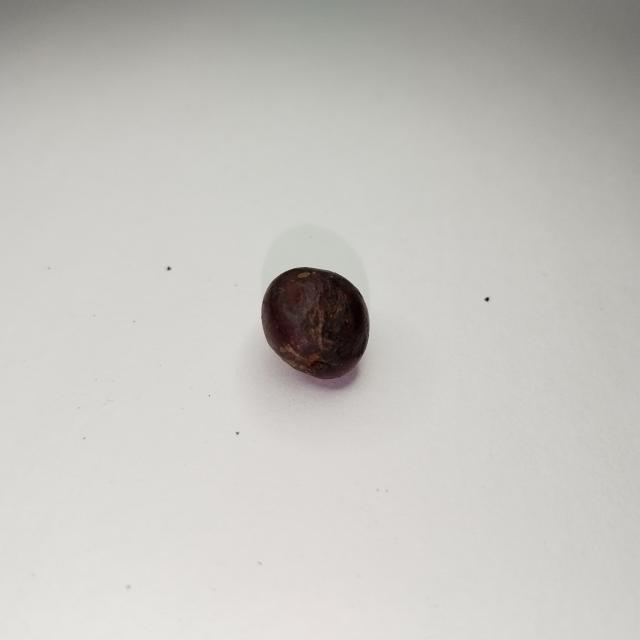Danado: (260, 272, 368, 381), (369, 333, 374, 350)
